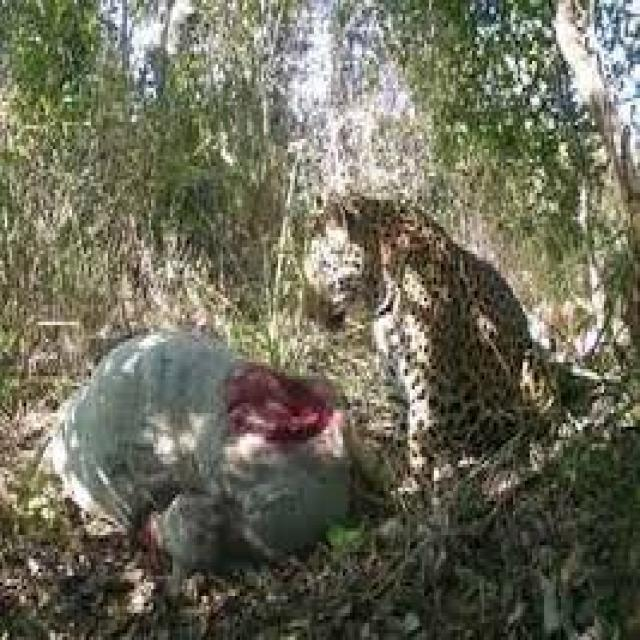Jaguar: (302, 183, 566, 501)
